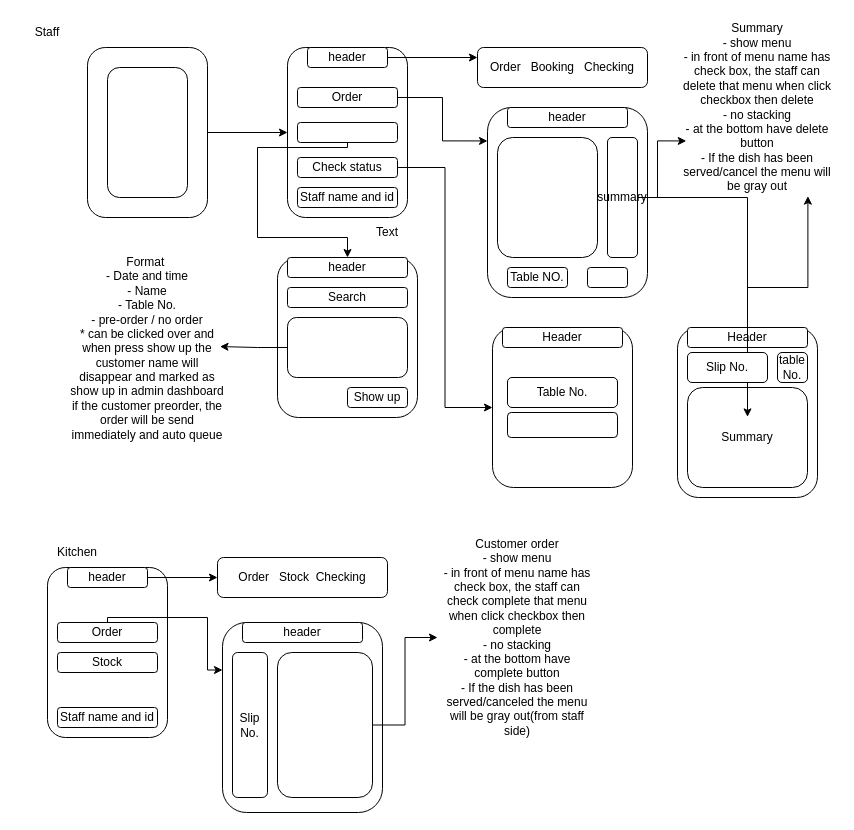
Some shapes in this 854 by 830 pixel diagram are drawn without their labels. The centre of each missing label's shape, as x and y in pixels:
"Booking" goes at point (347, 132).
"Booking by date and time" goes at point (347, 347).
"Customer order" goes at point (324, 725).
"Enter" goes at point (562, 425).
"Login" goes at point (147, 132).
"Menu" goes at point (547, 197).
"Submit" goes at point (607, 277).
